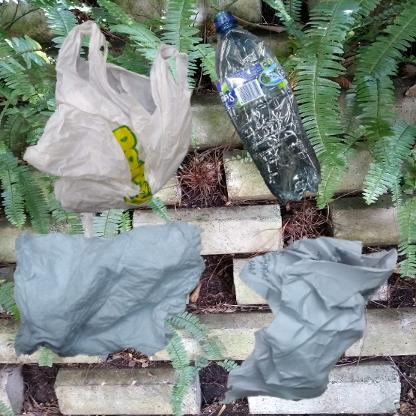bolsa: (10, 10, 238, 265)
botella: (213, 10, 322, 203)
papel: (213, 213, 409, 416), (10, 213, 209, 364)
